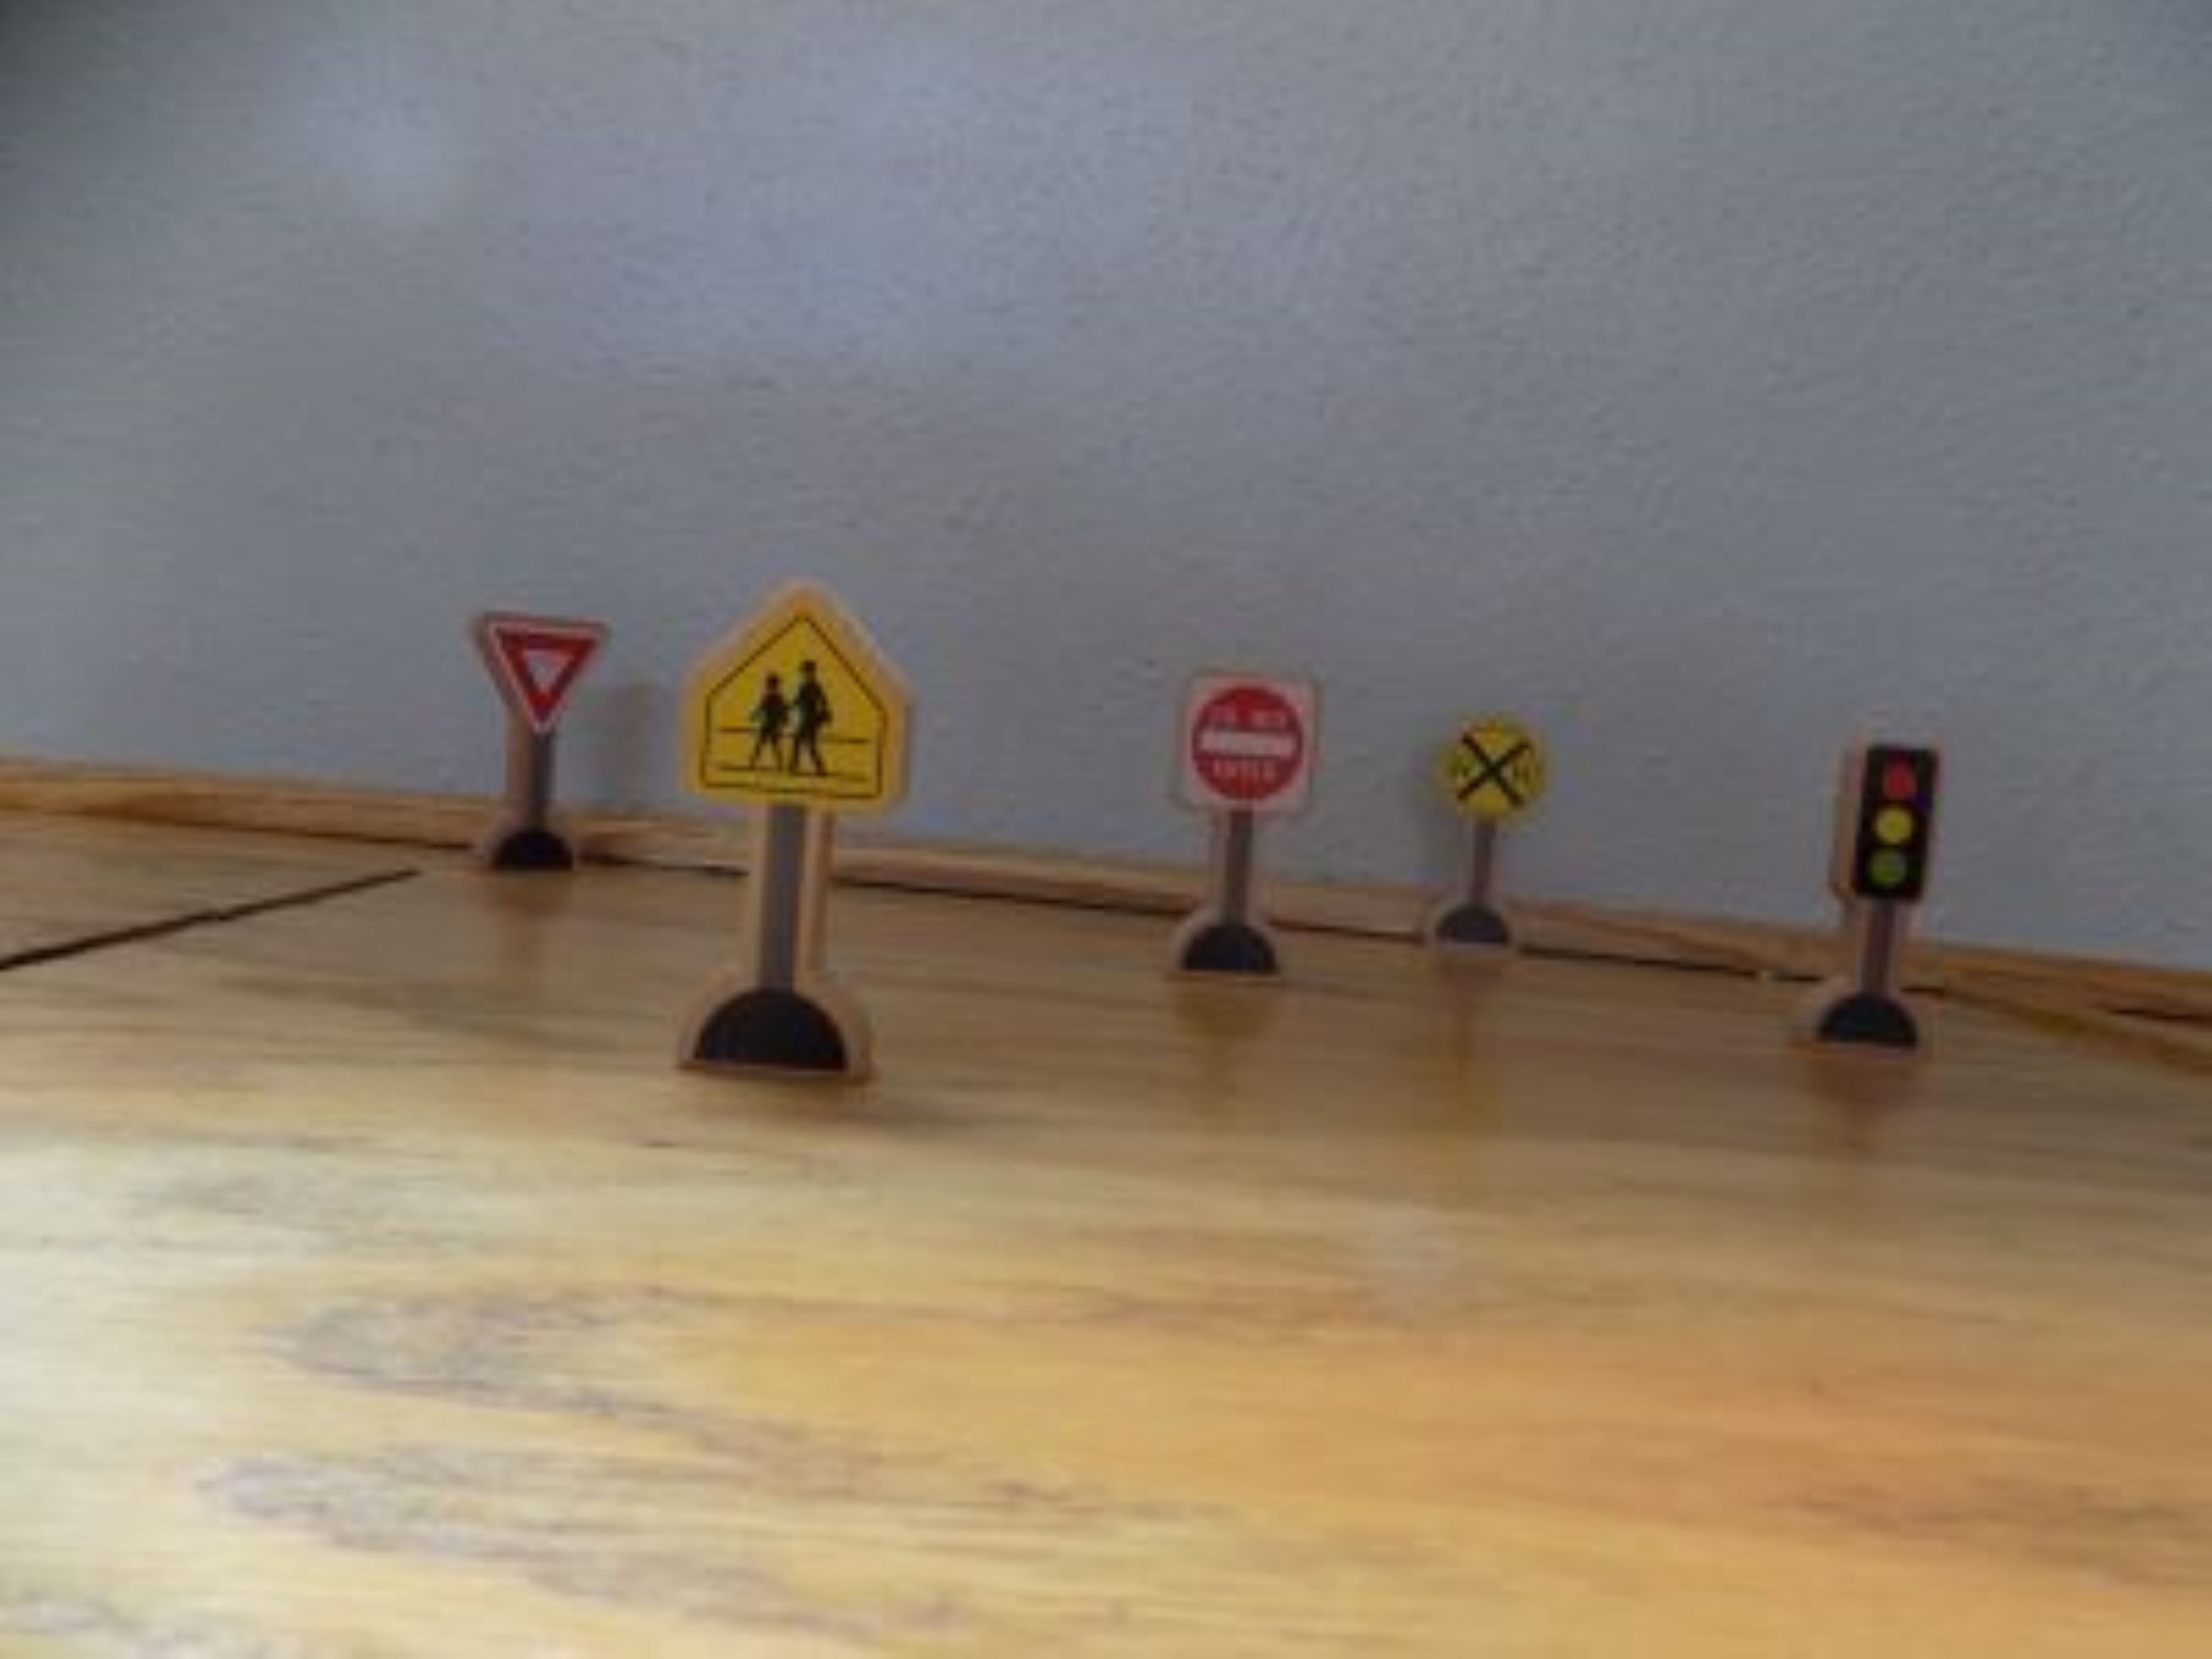Do Not Enter: (1172, 659, 1325, 831)
Pedestrians: (681, 582, 909, 823)
Rail Road Sign: (1440, 716, 1547, 836)
Red Traffic Light: (1845, 732, 1950, 921)
Yield Sign: (453, 601, 626, 750)
